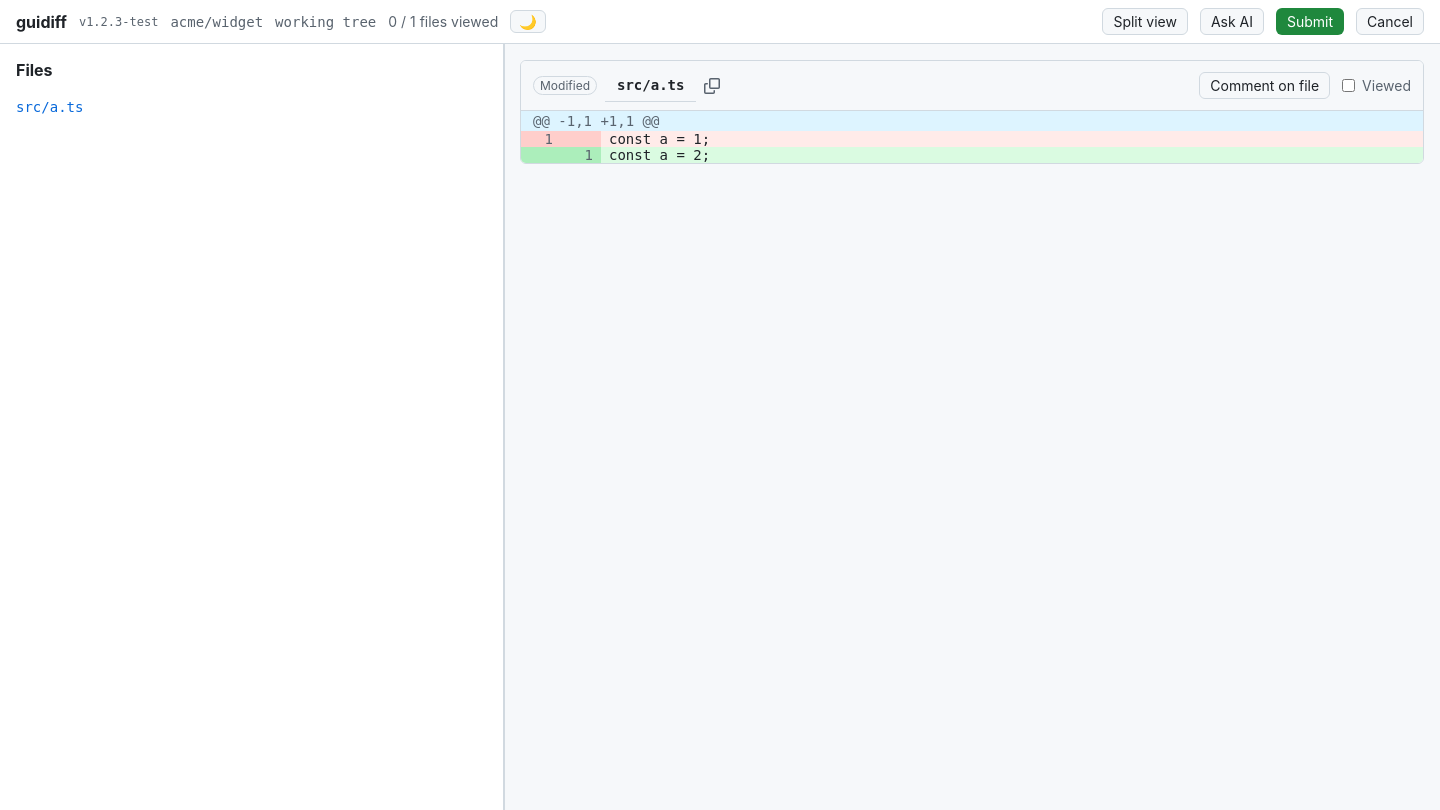
Test: App › the selected model and effort travel with each question and persist
Click the button "Ask AI" at (1232, 22), box top-left (1200, 8), bottom-right (1264, 35)
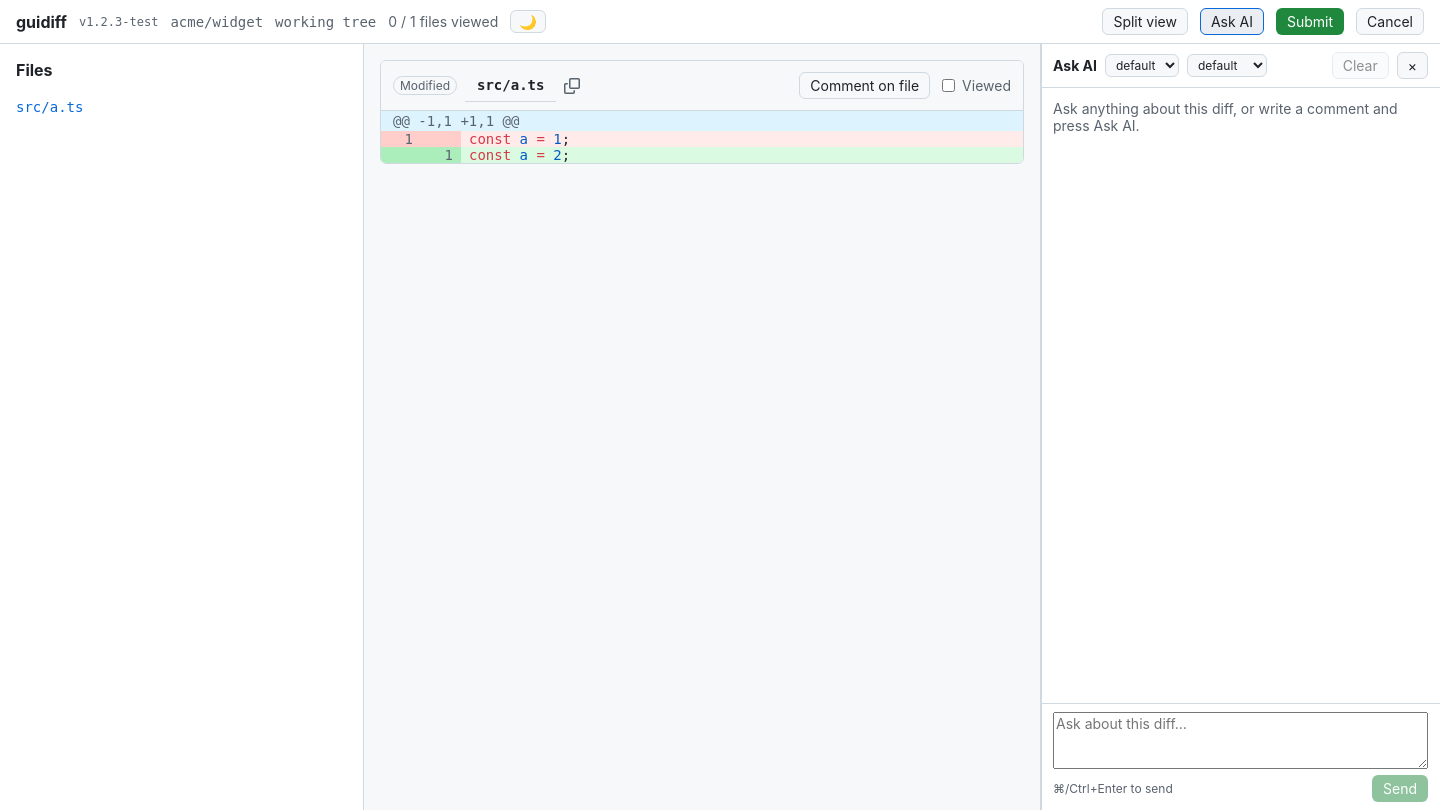
Select "sonnet" in the dropdown named "Model" at (1142, 66), box top-left (1105, 54), bottom-right (1179, 77)
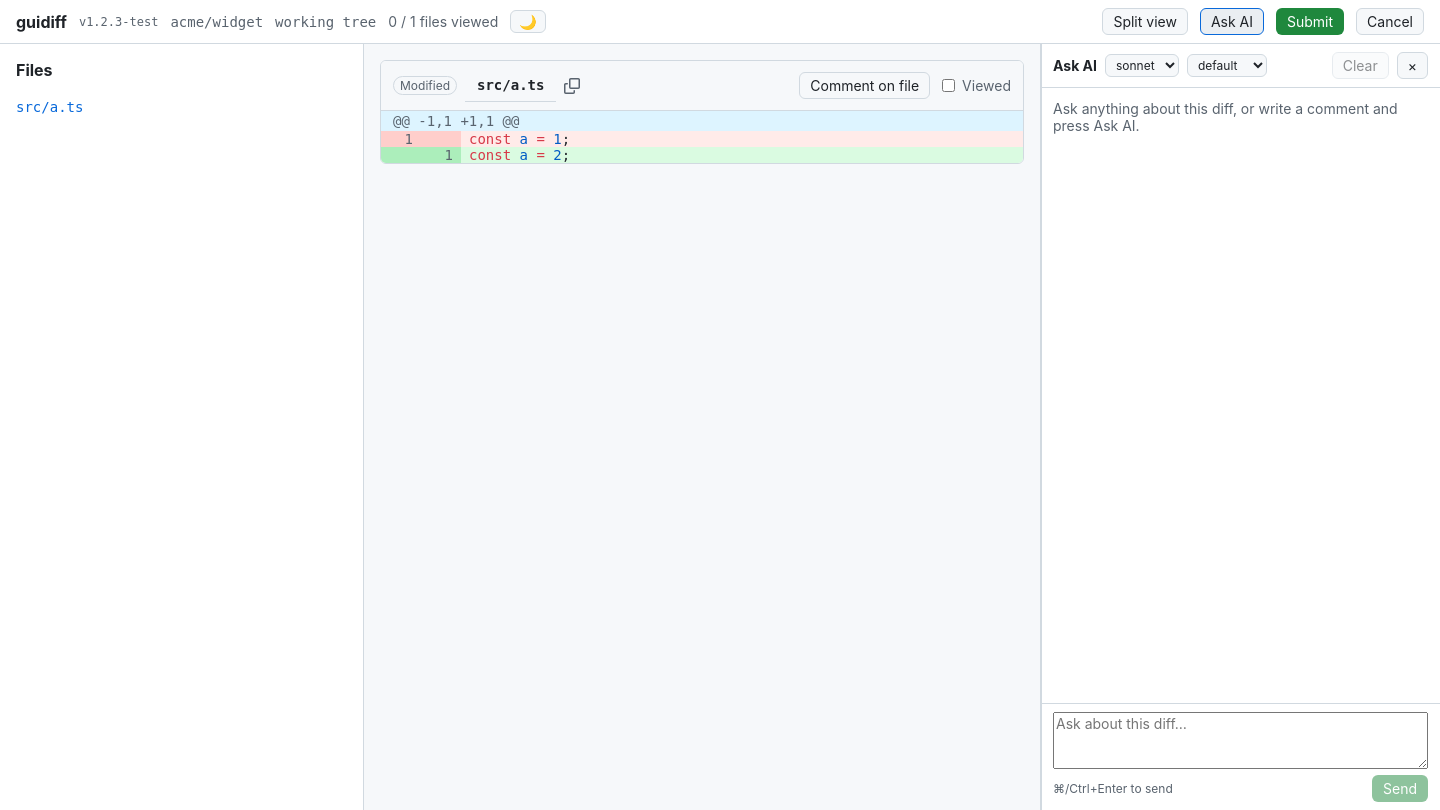
Select "low" in the dropdown named "Effort" at (1227, 66), box top-left (1187, 54), bottom-right (1267, 77)
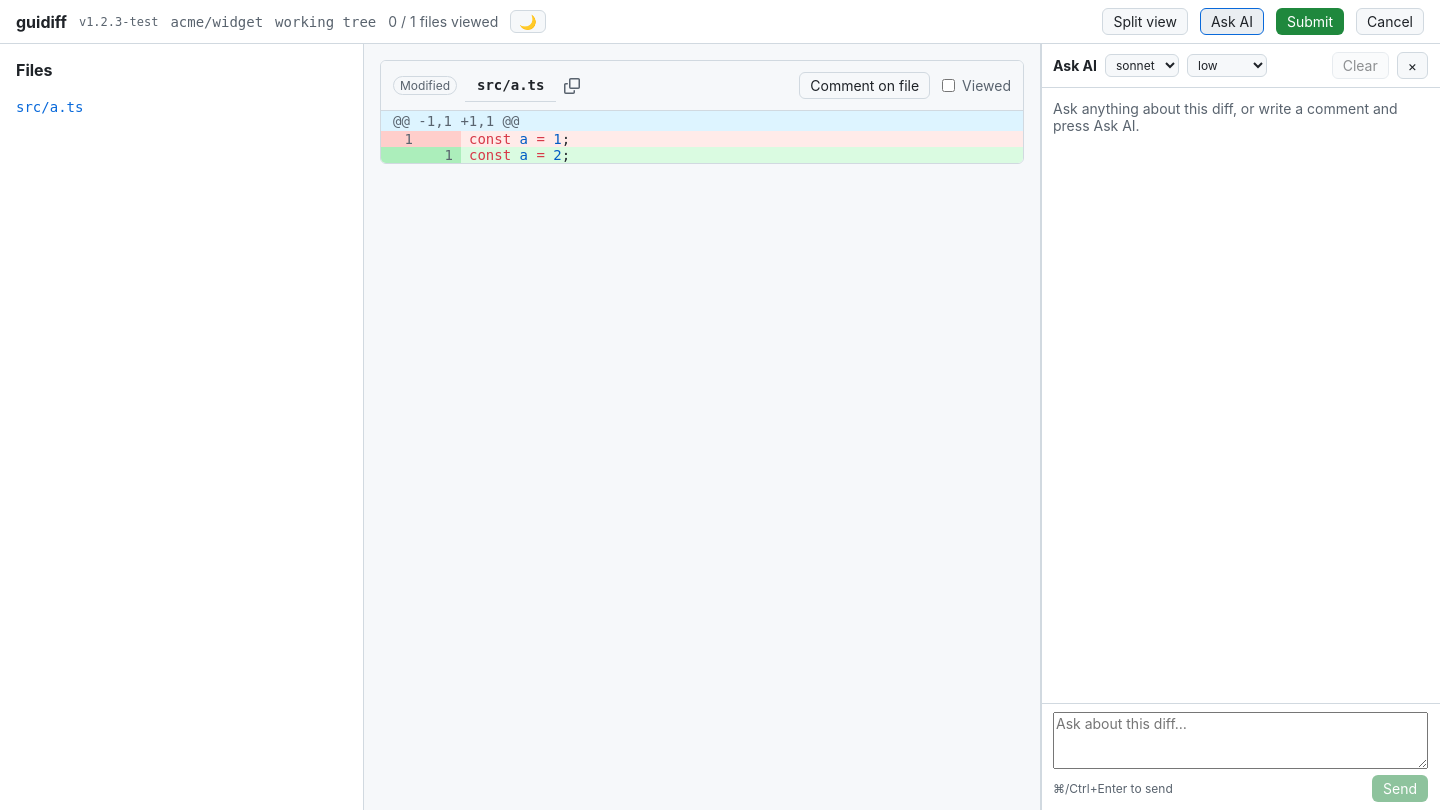
Type "why?" into the text box with placeholder "Ask about this diff…" at (1240, 740), box top-left (1053, 712), bottom-right (1428, 769)
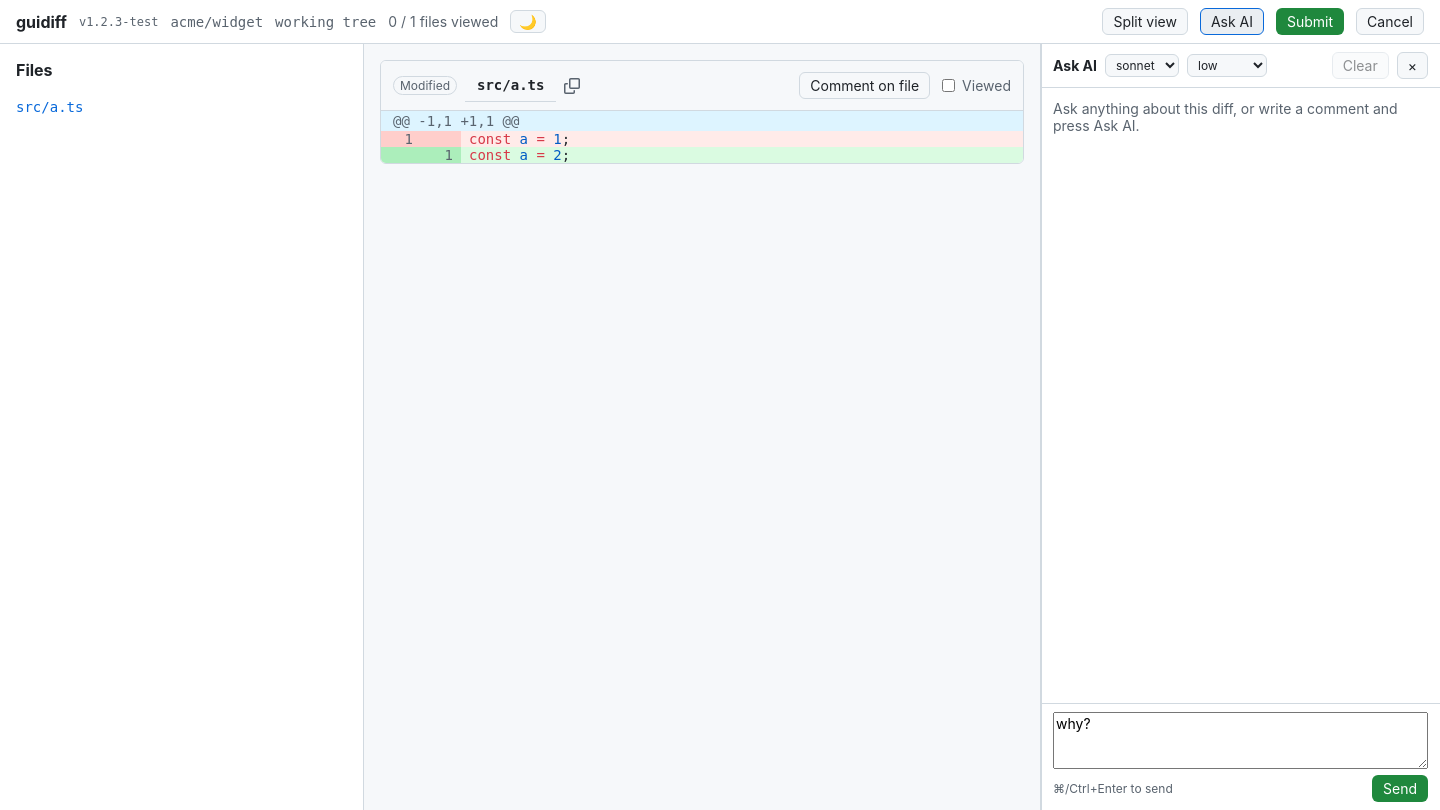
Click the button "Send" at (1400, 788), box top-left (1372, 775), bottom-right (1428, 802)
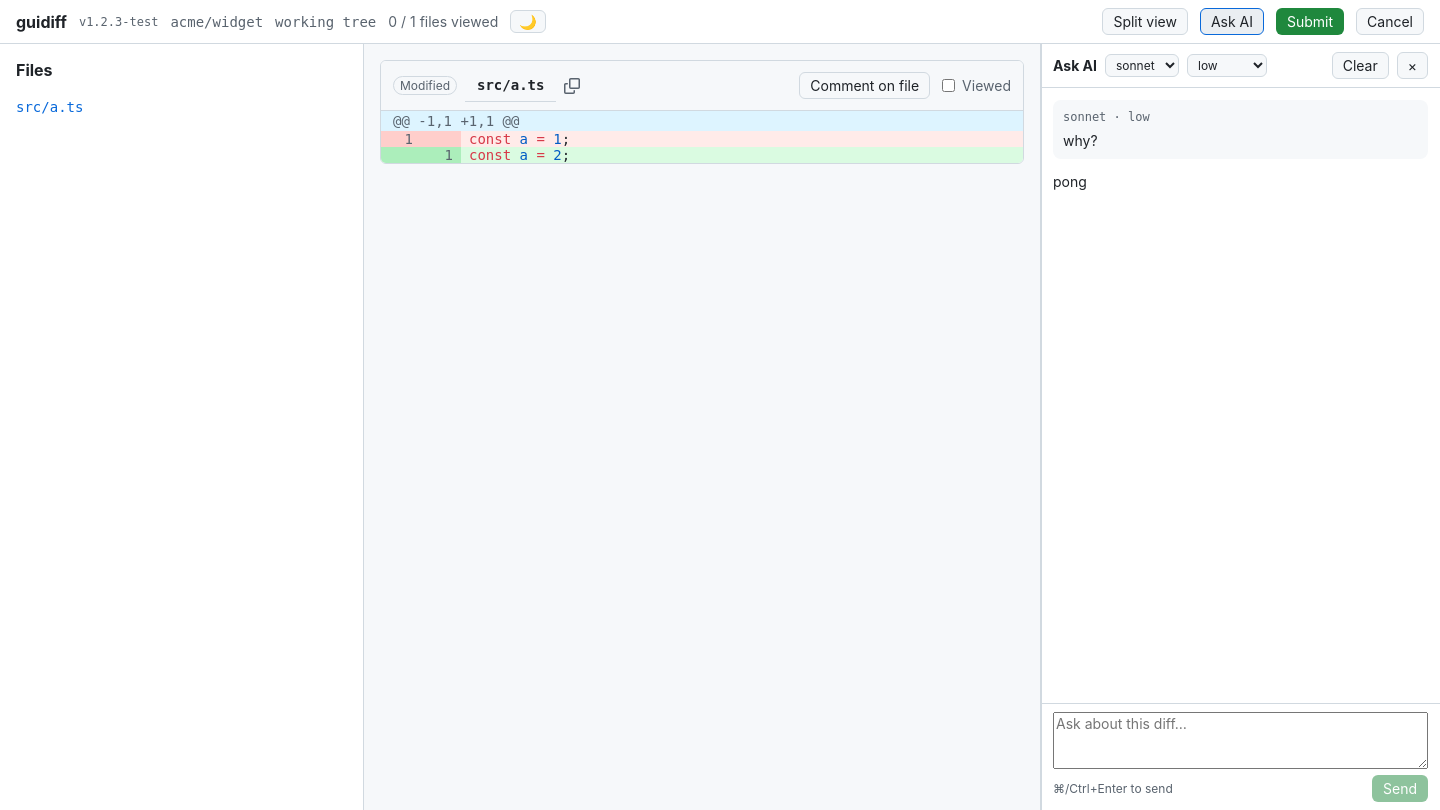
Expected: the text "pong" is shown, top-left (1053, 173), bottom-right (1087, 190)
